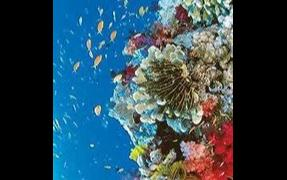bleached_corals: (128, 44, 209, 119), (125, 85, 169, 129)
